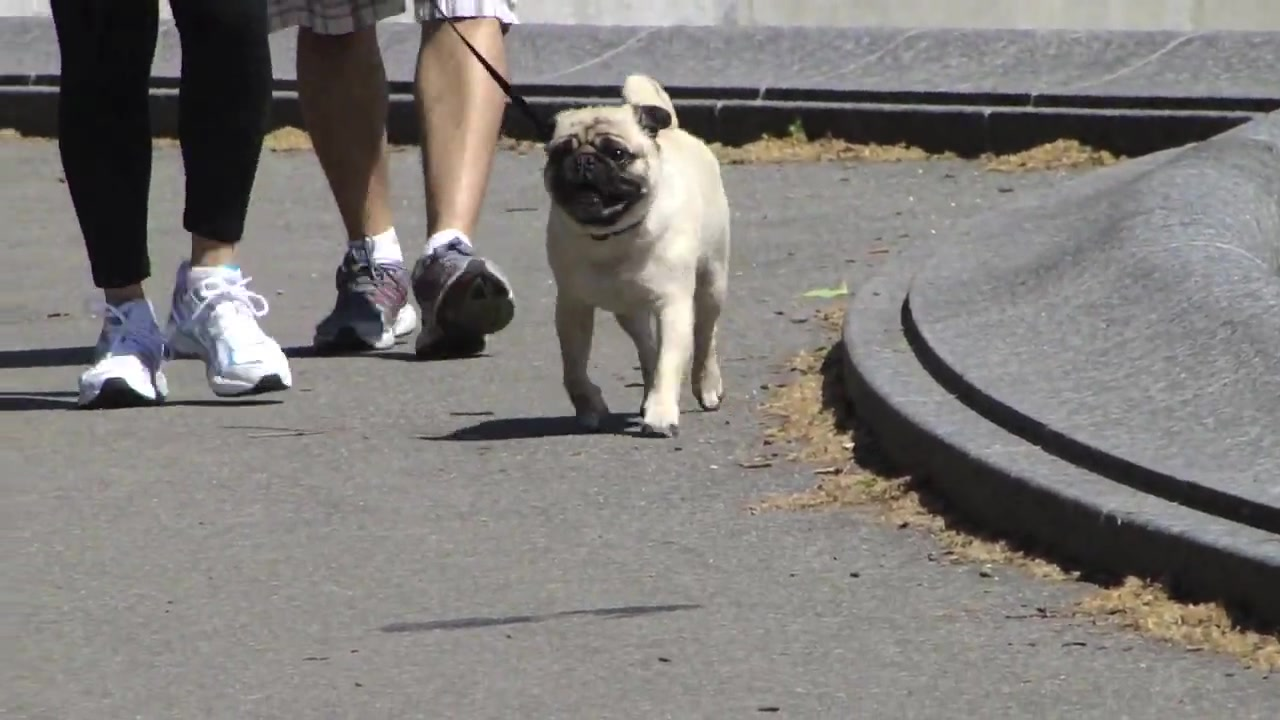dog: (540, 71, 735, 438)
